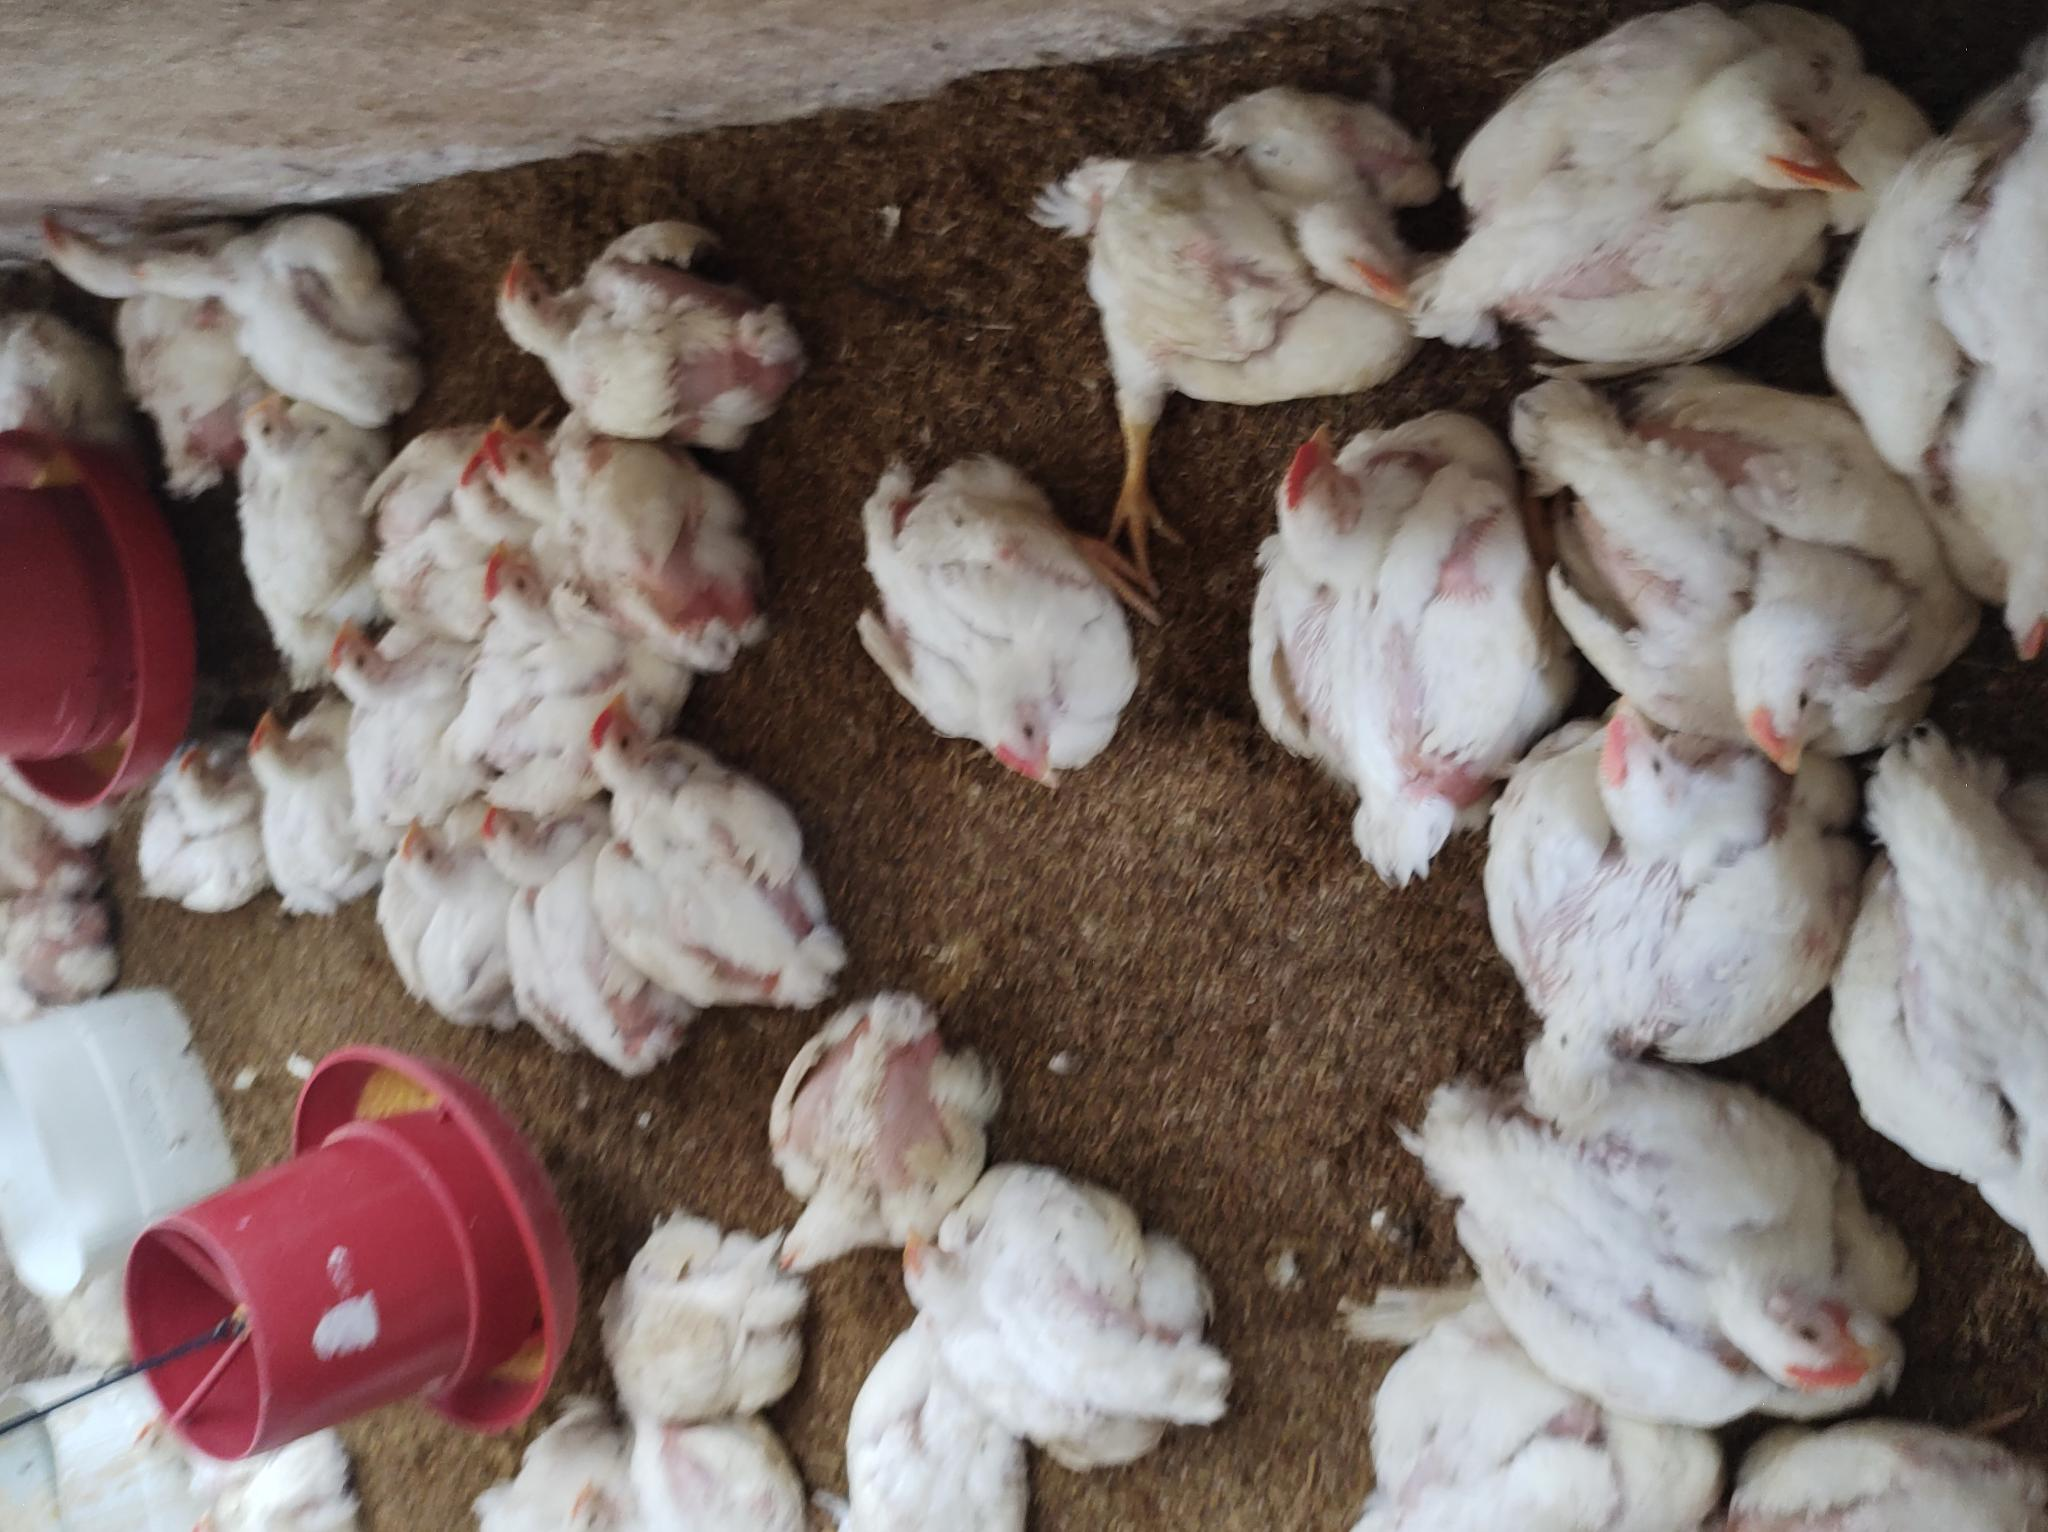Pollos: (1380, 1038, 1939, 1398), (1504, 386, 1974, 793), (1419, 0, 1879, 377), (1824, 34, 2048, 677), (1236, 402, 1524, 885), (1482, 705, 1857, 1064), (1824, 710, 2048, 1287), (886, 1152, 1252, 1489), (1067, 77, 1433, 410), (853, 444, 1163, 797), (1327, 1254, 1710, 1532), (570, 689, 849, 1015), (481, 414, 787, 663), (755, 980, 1002, 1283), (500, 204, 804, 447), (478, 793, 700, 1081), (119, 211, 425, 418), (436, 541, 669, 805), (35, 195, 249, 476), (203, 394, 396, 690), (592, 1202, 803, 1427), (829, 1310, 1036, 1529), (370, 805, 561, 1041), (1725, 1410, 2046, 1529), (359, 417, 526, 632), (323, 607, 478, 832), (241, 706, 373, 909), (130, 724, 262, 916), (0, 851, 117, 1015)
